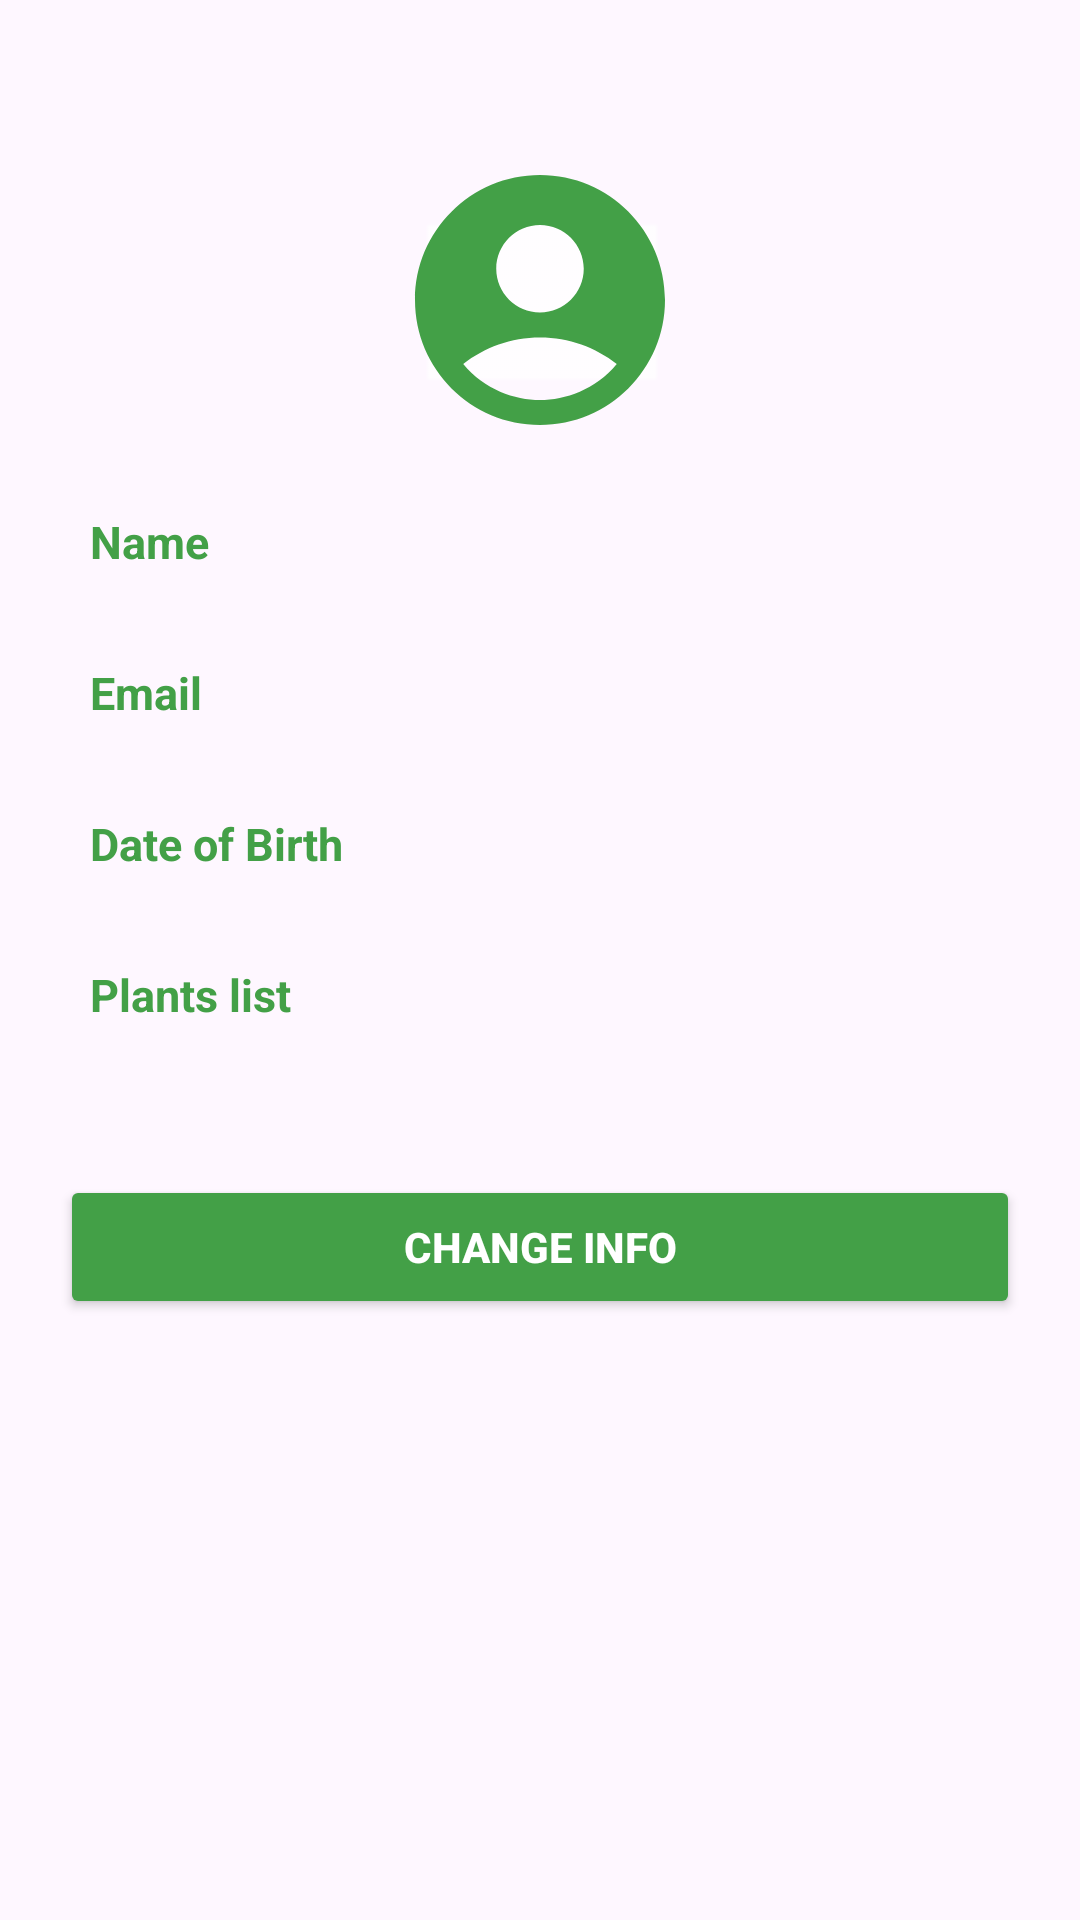

Where icons sit on this 1080 x 1920 app screen, as region(x1, y1, x2, y2):
account circle: region(415, 175, 665, 425)
